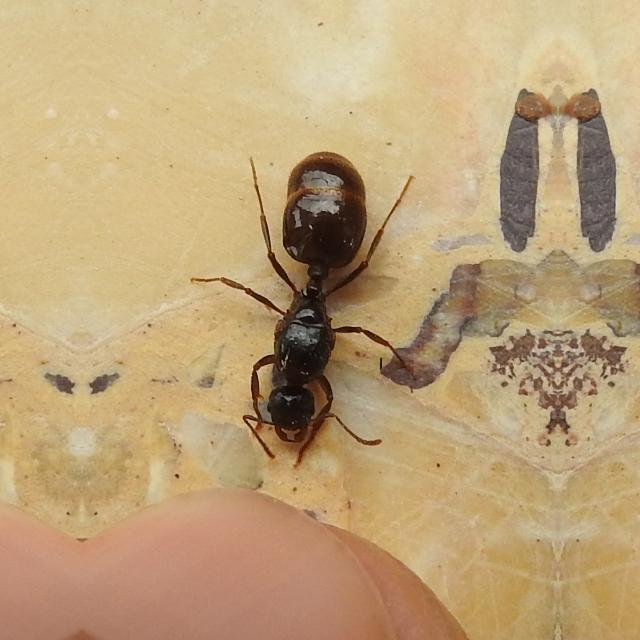Apheanogaster: (219, 126, 399, 480)
